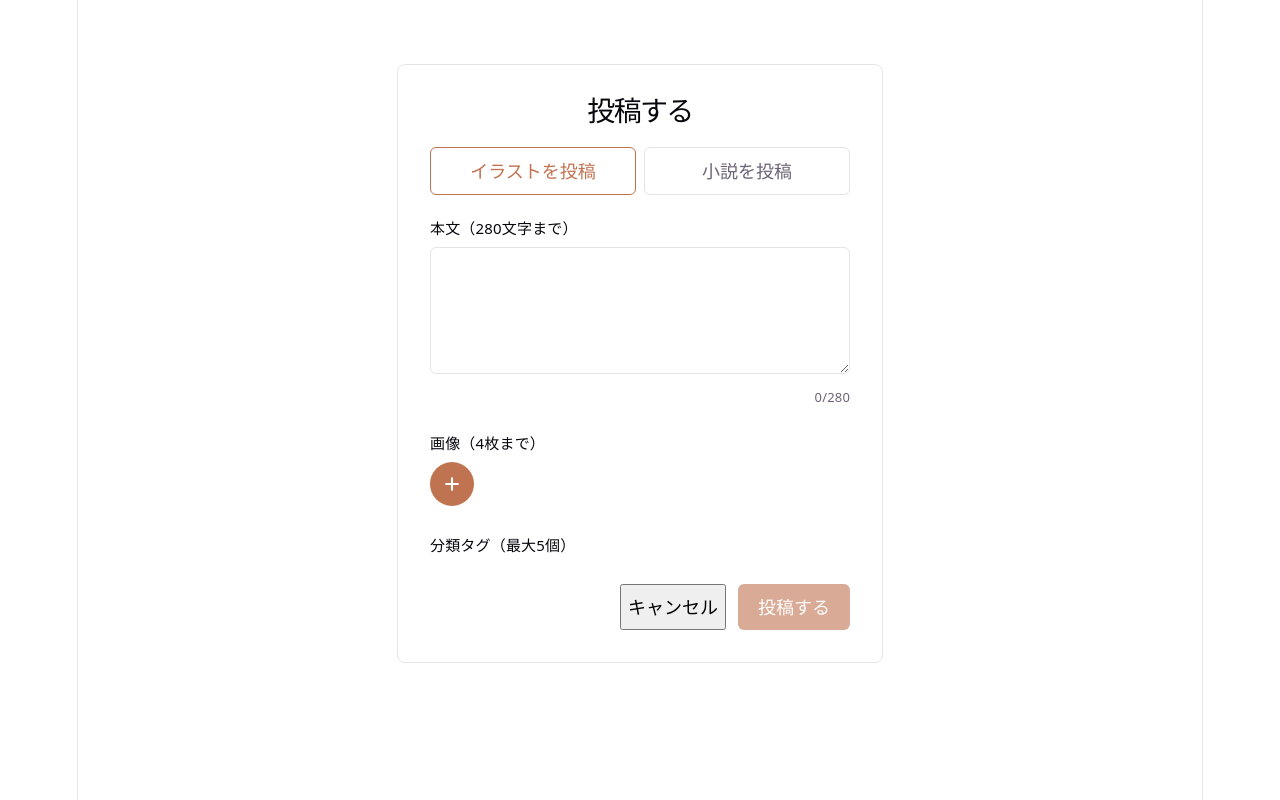
PostCreateView › 小説を選ぶとタイトル欄が現れ、タイトル・本文の両方を入力するまで投稿ボタンはdisabledのまま
This screenshot has width=1280, height=800.
Click the button with test id "post-type-novel" at point(747, 171), box [644,147,850,195]
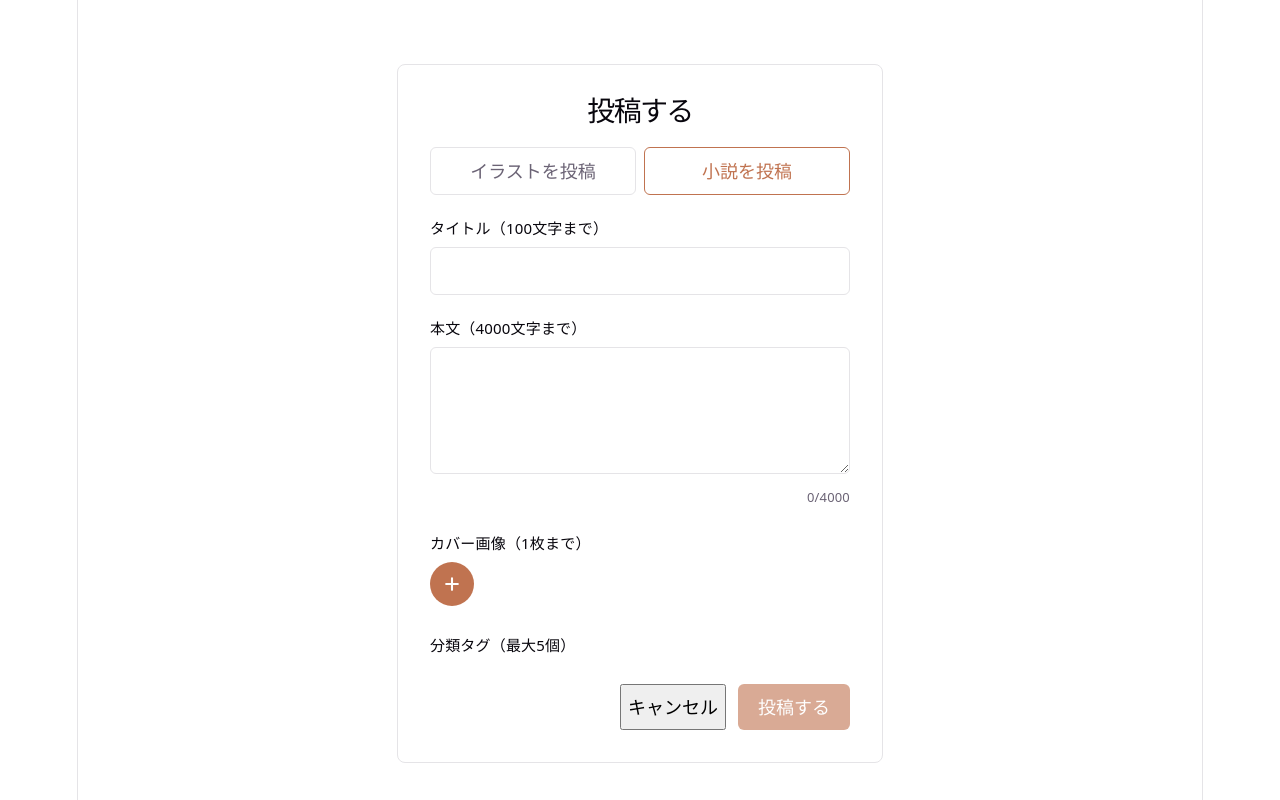
Expected: the button with test id "post-compose-submit" is disabled, [738,684,850,730]
Type "タイトル" into the field with test id "post-title" at point(640, 271), box [430,247,850,295]
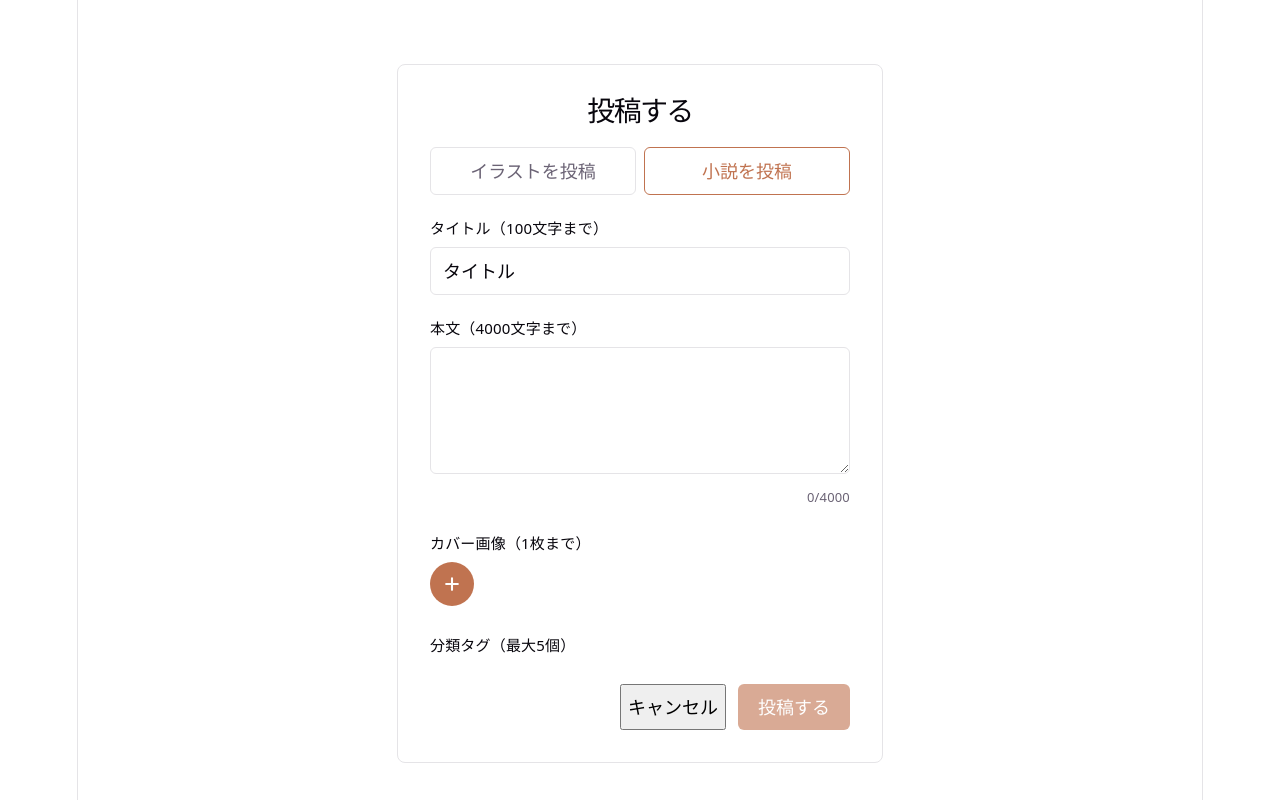
Expected: the button with test id "post-compose-submit" is disabled, [738,684,850,730]
Type "本文" into the text box with test id "post-body" at point(640, 411), box [430,348,850,474]
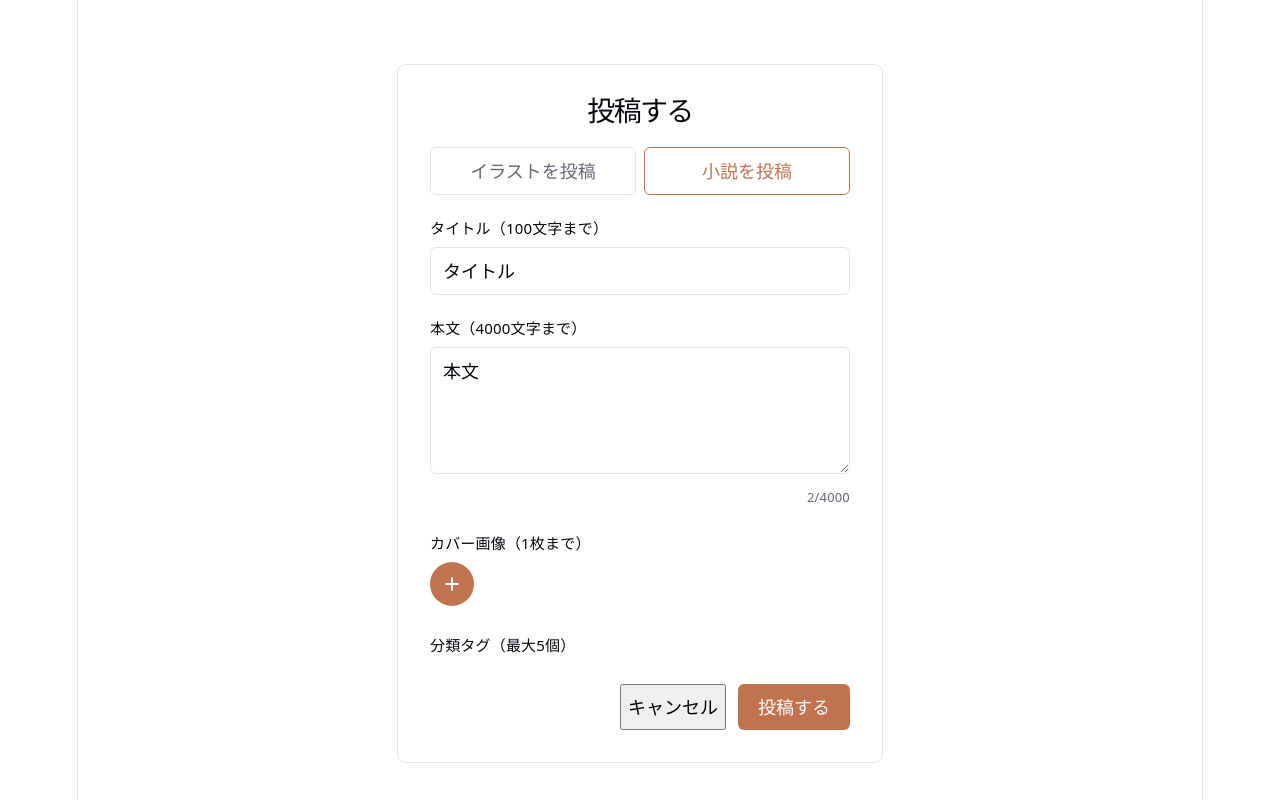
Expected: the button with test id "post-compose-submit" is enabled, [738,684,850,730]
